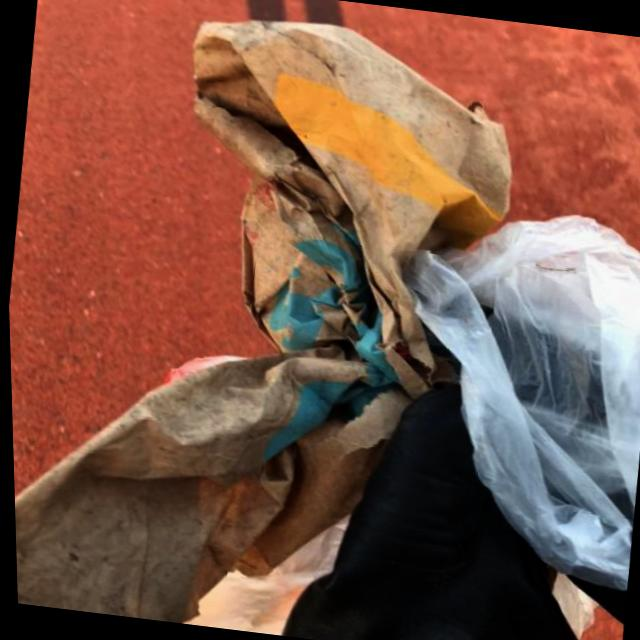Paper: (0, 0, 539, 640)
